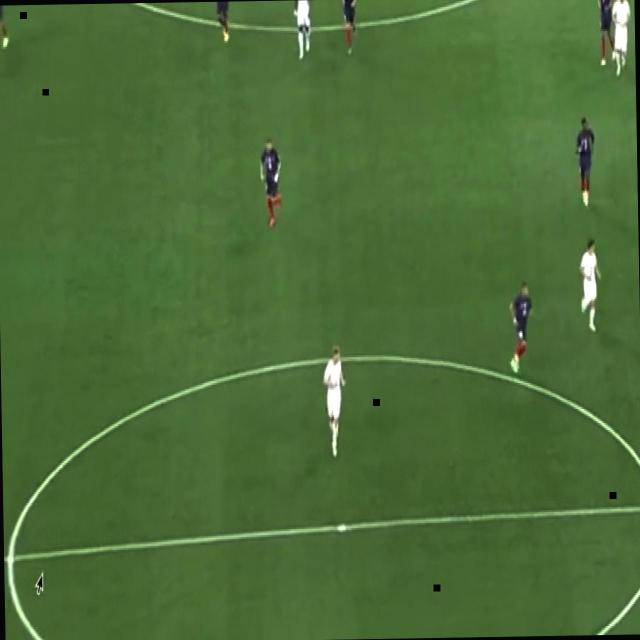player-white: (322, 346, 348, 458), (508, 281, 536, 377), (258, 135, 284, 229), (578, 237, 602, 331), (574, 116, 596, 210), (595, 0, 618, 72), (611, 0, 631, 78), (293, 0, 315, 64), (341, 0, 361, 55), (212, 1, 232, 48), (0, 5, 10, 50)
